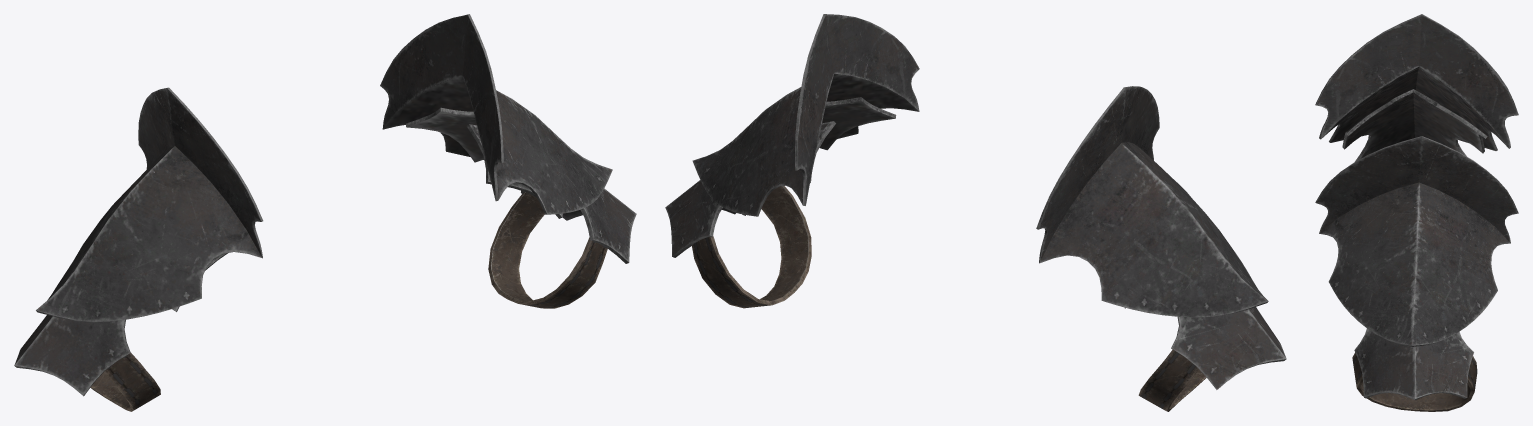
File: sk_uruk_mordor_pauldron_heavy_g.fbx
3 views of the same model, side by side, from view 1: azimuth 30°, elevation 25°; view 2: azimuth 150°, elevation 25°; view 3: azimuth 270°, elevation 25° (orthographic). The views are drawn at different scales.
Visible parts, largest first — view 1: sk_uruk_mordor_pauldron_heavy_g.2, sk_uruk_mordor_pauldron_heavy_g.1, sk_uruk_mordor_pauldron_heavy_g.0; view 2: sk_uruk_mordor_pauldron_heavy_g.2, sk_uruk_mordor_pauldron_heavy_g.1, sk_uruk_mordor_pauldron_heavy_g.0; view 3: sk_uruk_mordor_pauldron_heavy_g.2, sk_uruk_mordor_pauldron_heavy_g.1, sk_uruk_mordor_pauldron_heavy_g.0.
Part boxes in pixels (<box>): sk_uruk_mordor_pauldron_heavy_g.2: <box>36,14,612,322</box>; sk_uruk_mordor_pauldron_heavy_g.1: <box>14,107,636,396</box>; sk_uruk_mordor_pauldron_heavy_g.0: <box>90,192,607,411</box>; sk_uruk_mordor_pauldron_heavy_g.2: <box>692,14,1268,317</box>; sk_uruk_mordor_pauldron_heavy_g.1: <box>665,97,1286,389</box>; sk_uruk_mordor_pauldron_heavy_g.0: <box>691,186,1206,411</box>; sk_uruk_mordor_pauldron_heavy_g.2: <box>1315,14,1518,346</box>; sk_uruk_mordor_pauldron_heavy_g.1: <box>1342,89,1487,400</box>; sk_uruk_mordor_pauldron_heavy_g.0: <box>1352,352,1477,411</box>.
Size of the model in its own units: 0.8939 by 0.3048 by 0.4145.
Materials: 3 (3 with a texture image).
